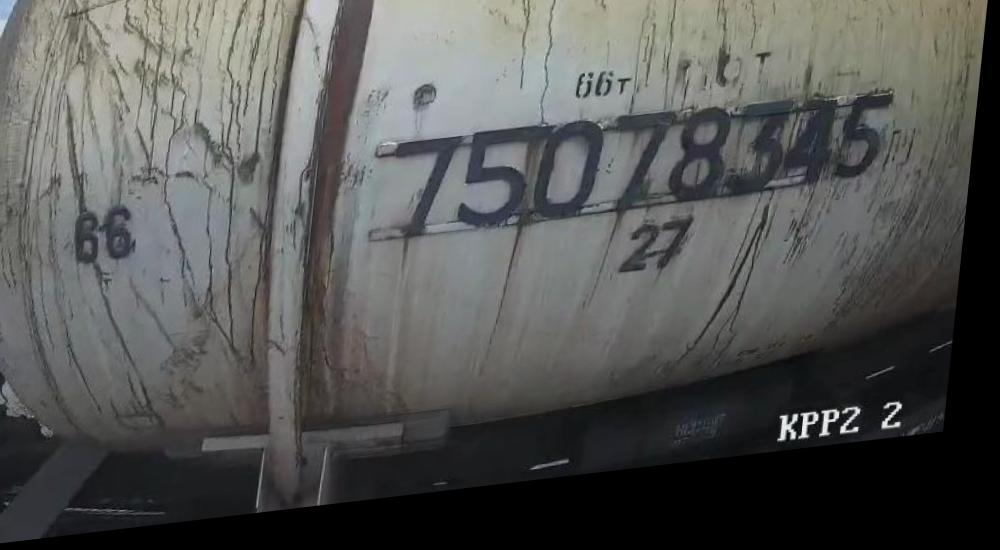Wagon-number: (383, 102, 899, 257)
